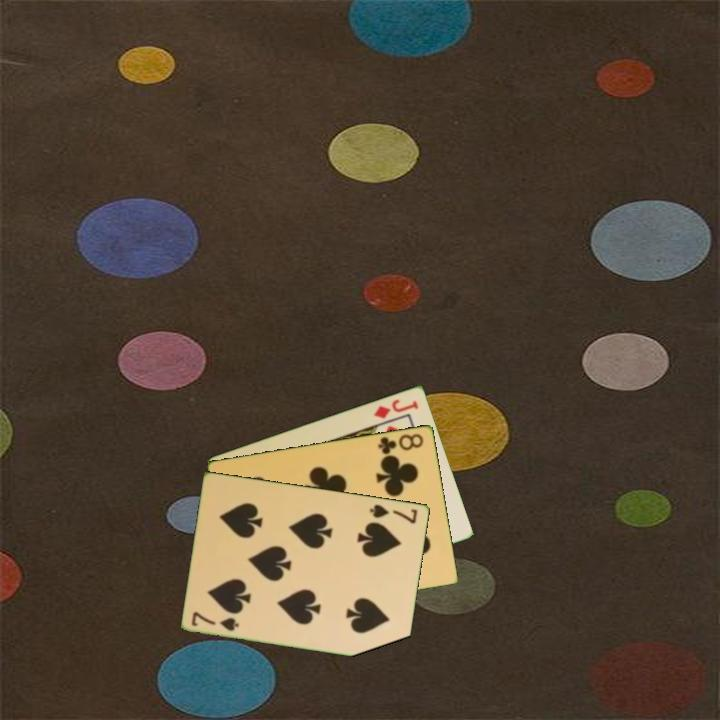7s: (367, 500, 421, 526), (188, 608, 242, 634)
8c: (375, 430, 426, 457)
Jd: (370, 395, 422, 421)
